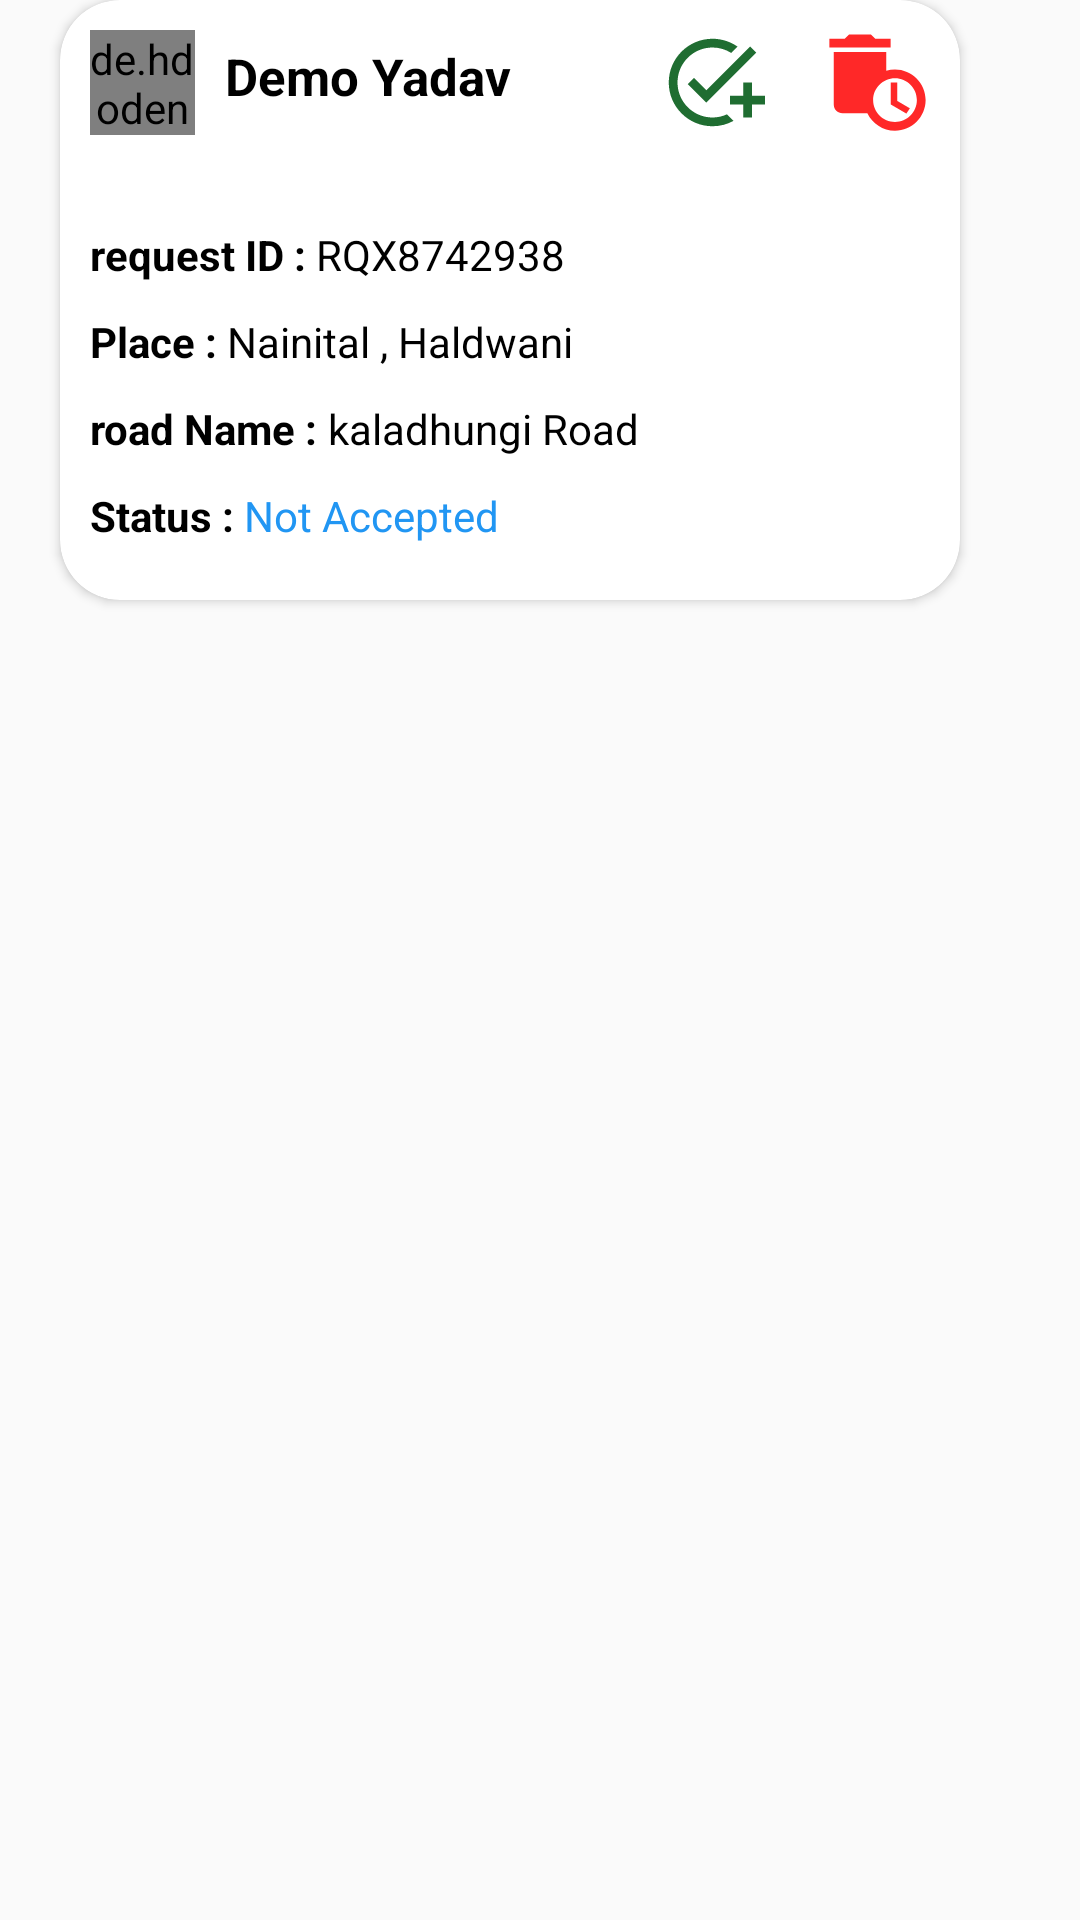

Point at icon controls on the screen. Image size 1080w x 1920h, points as [x,y].
add task: [716,82]
auto delete: [877,82]
